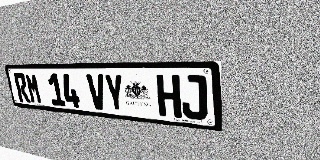1: (46, 73, 66, 106)
4: (60, 74, 80, 108)
H: (156, 75, 182, 118)
J: (180, 75, 208, 121)
M: (25, 73, 43, 104)
R: (13, 73, 31, 103)
V: (86, 74, 108, 111)
Y: (103, 74, 126, 112)
